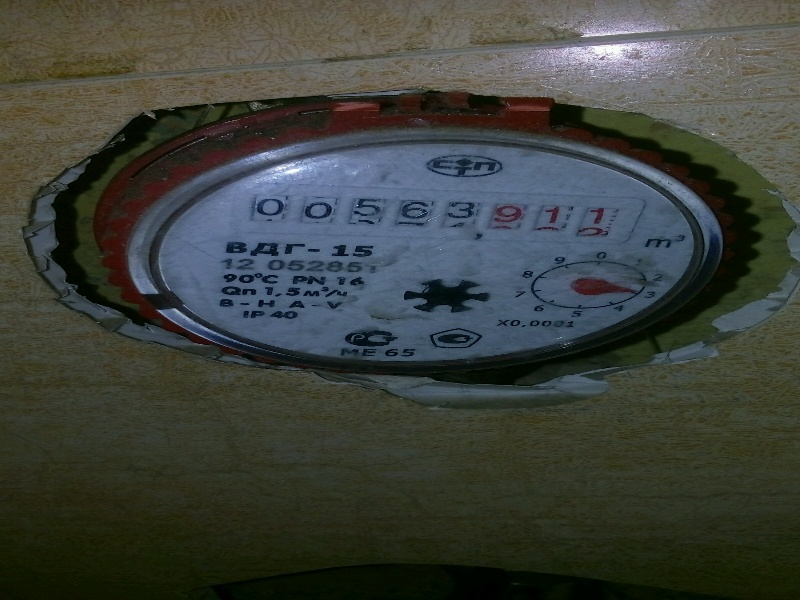meter: (241, 188, 633, 241)
